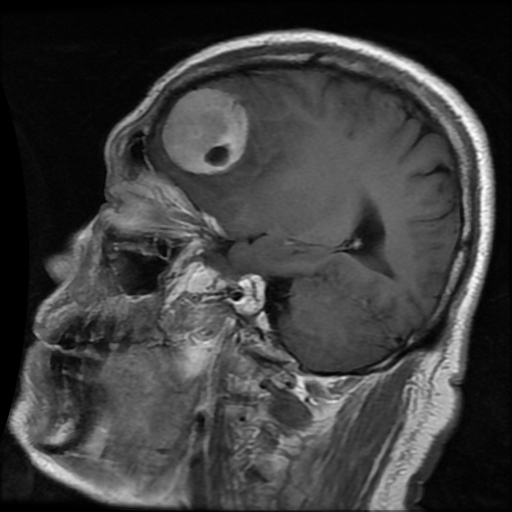meningioma: (163, 86, 249, 174)
